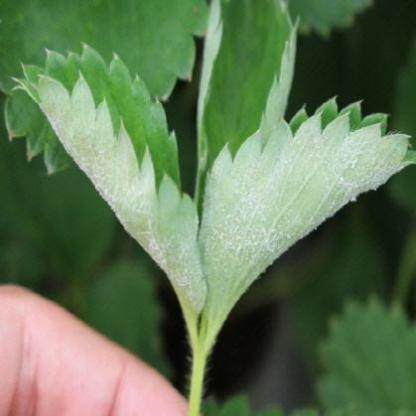Strawberry_Powdery_Mildew_Leaf: (9, 40, 209, 330), (198, 95, 415, 350), (193, 0, 301, 213)
